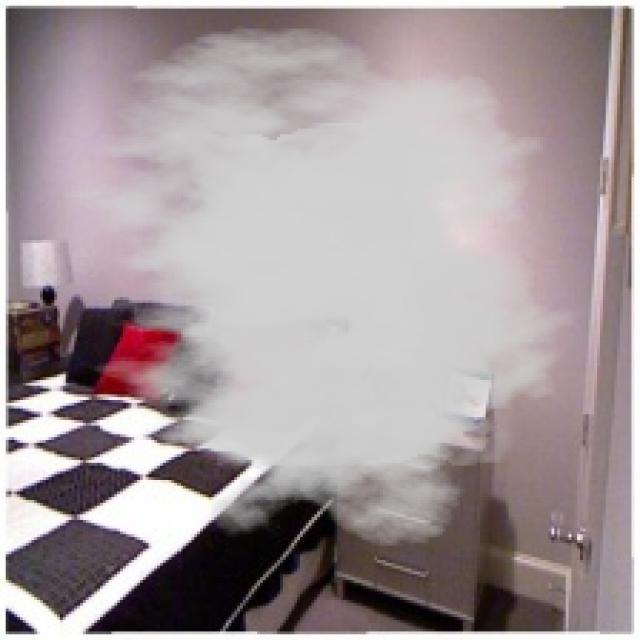Smoke: (37, 26, 586, 548)
